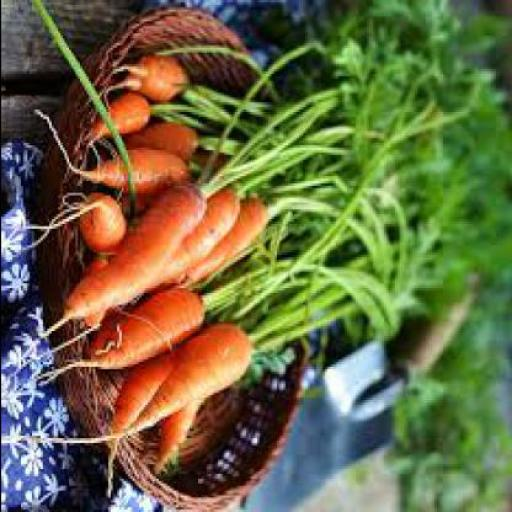biodegradable: (206, 2, 510, 304), (2, 329, 256, 450), (207, 246, 429, 352), (55, 186, 210, 336), (46, 291, 210, 379), (395, 407, 511, 511), (108, 359, 182, 500), (427, 297, 510, 422), (158, 204, 273, 293), (164, 188, 247, 293), (68, 148, 203, 198), (61, 193, 131, 260), (83, 93, 151, 147), (107, 57, 186, 103), (120, 122, 206, 164), (159, 410, 204, 479), (110, 176, 168, 219)
metal: (324, 342, 405, 422)
